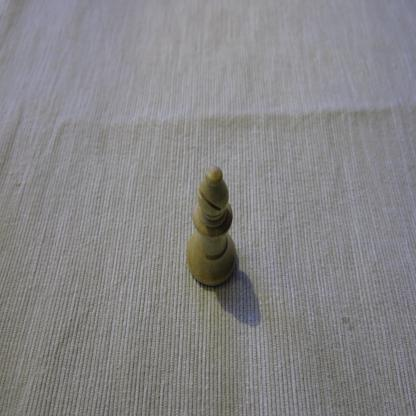white-bishop: (186, 164, 238, 288)
